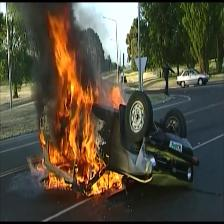fire: (36, 5, 125, 196), (112, 87, 126, 110)
